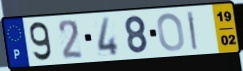2: (58, 18, 84, 60)
4: (96, 16, 120, 58)
8: (124, 14, 150, 55)
9: (28, 21, 53, 62)
I: (186, 10, 199, 52)
O: (156, 12, 187, 53)
